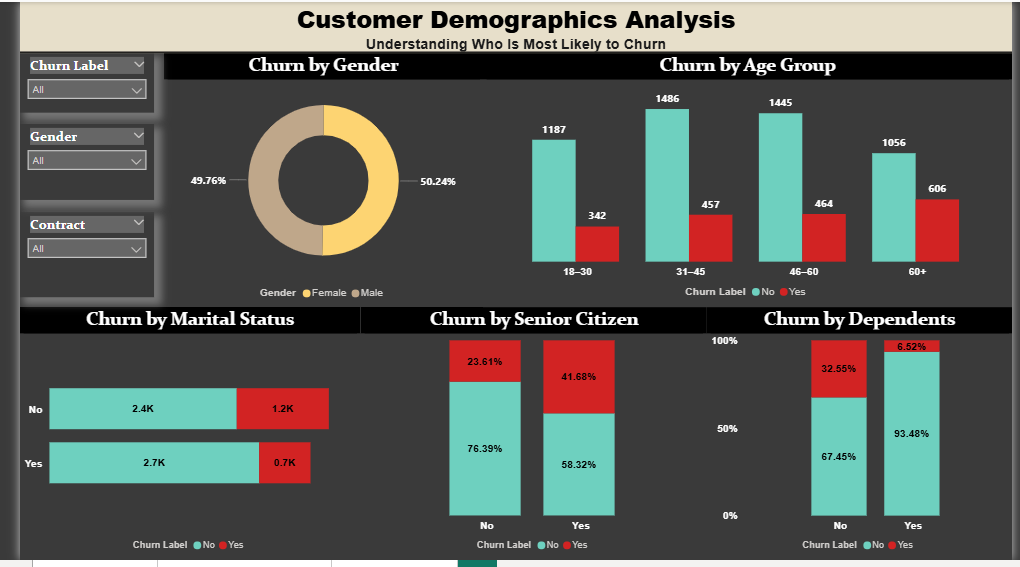

This screenshot's page, from the dashboard's own definition file:
{"tool":"powerbi","page":{"name":"Customer demographics","canvas":[1280,720],"ordinal":1},"visuals":[{"type":"donutChart","title":"Churn by Gender","fields":{"Y":["CountNonNull(Telco.Customer ID)"],"Category":["Telco.Gender"]},"box":[185.8,66.1,411.5,328.9],"z":0},{"type":"barChart","title":"Churn by Marital Status","fields":{"Category":["Telco.Married"],"Series":["Telco.Churn Label"],"Y":["Telco.Total Customers"]},"box":[0,393.6,439.1,326.2],"z":1000},{"type":"hundredPercentStackedColumnChart","title":"Churn by Senior Citizen","fields":{"Category":["Telco.Senior Citizen"],"Y":["Telco.Total Customers"],"Series":["Telco.Churn Label"]},"box":[439.4,394,446.5,326],"z":2000},{"type":"hundredPercentStackedColumnChart","title":"Churn by Dependents","fields":{"Category":["Telco.Dependents"],"Y":["CountNonNull(Telco.Customer ID)"],"Series":["Telco.Churn Label"]},"box":[886.4,393.6,393.6,326.2],"z":3000},{"type":"slicer","fields":{"Values":["Telco.Churn Label"]},"box":[0,66.1,173.4,77.1],"z":4000},{"type":"slicer","fields":{"Values":["Telco.Contract"]},"box":[0,271,172.9,109.7],"z":5000},{"type":"slicer","fields":{"Values":["Telco.Gender"]},"box":[0,158,172.9,98.1],"z":6000},{"type":"clusteredColumnChart","title":"Churn by Age Group","fields":{"Category":["Telco.Age Group"],"Y":["CountNonNull(Telco.Customer ID)"],"Series":["Telco.Churn Label"]},"box":[597.3,66.1,682.7,327.6],"z":7000},{"type":"shape","title":"Customer Demographics Analysis","box":[0,0,1280,66],"z":8000}]}

Visuals, with their boxes in screenshot pixels (x1, y1, x2, y2), scaled from the page's 1280x720 canvas onto the 1020x567 screenshot:
"Churn by Gender" donutChart: {"x1": 148, "y1": 52, "x2": 476, "y2": 311}
"Churn by Marital Status" barChart: {"x1": 0, "y1": 310, "x2": 350, "y2": 566}
"Churn by Senior Citizen" hundredPercentStackedColumnChart: {"x1": 350, "y1": 310, "x2": 706, "y2": 566}
"Churn by Dependents" hundredPercentStackedColumnChart: {"x1": 706, "y1": 310, "x2": 1019, "y2": 566}
slicer - Telco.Churn Label: {"x1": 0, "y1": 52, "x2": 138, "y2": 113}
slicer - Telco.Contract: {"x1": 0, "y1": 213, "x2": 138, "y2": 300}
slicer - Telco.Gender: {"x1": 0, "y1": 124, "x2": 138, "y2": 202}
"Churn by Age Group" clusteredColumnChart: {"x1": 476, "y1": 52, "x2": 1019, "y2": 310}
"Customer Demographics Analysis" shape: {"x1": 0, "y1": 0, "x2": 1019, "y2": 52}
